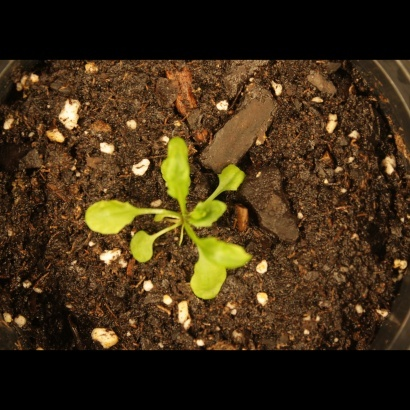leaf: (196, 231, 255, 271), (161, 134, 195, 202), (189, 251, 233, 303), (80, 197, 138, 233), (184, 199, 232, 228), (213, 160, 249, 197), (129, 229, 160, 268)
